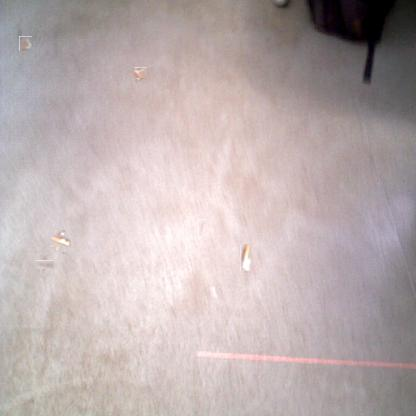dirty: (240, 243, 251, 271), (52, 233, 68, 249), (19, 36, 32, 51), (134, 67, 147, 79)
mark: (37, 258, 52, 272), (198, 219, 205, 236)
